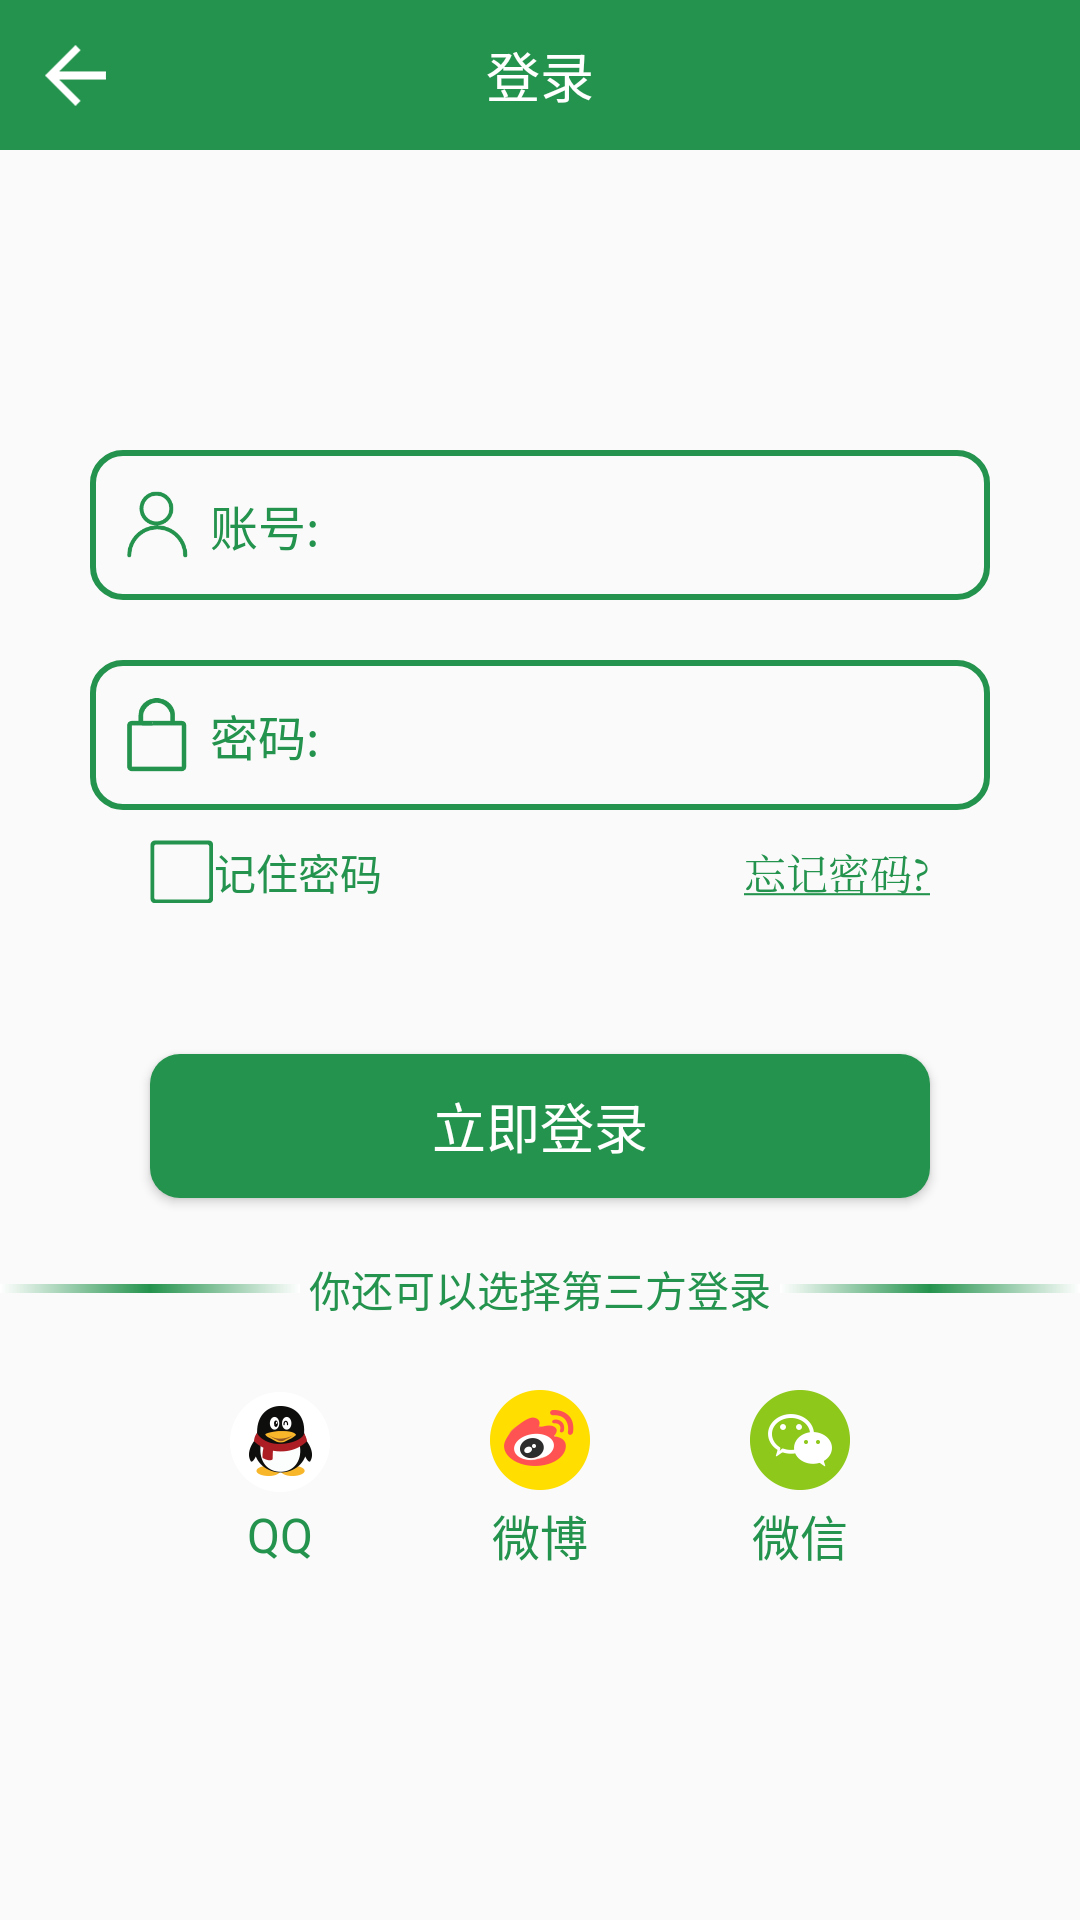

Where to tap for icons on this 1080px×1920px app screen, as point (x, y):
back: point (75, 75)
